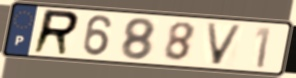1: (253, 26, 274, 70)
6: (82, 14, 115, 58)
8: (118, 16, 158, 62), (163, 20, 197, 62)
R: (29, 8, 82, 57)
V: (204, 21, 246, 67)
